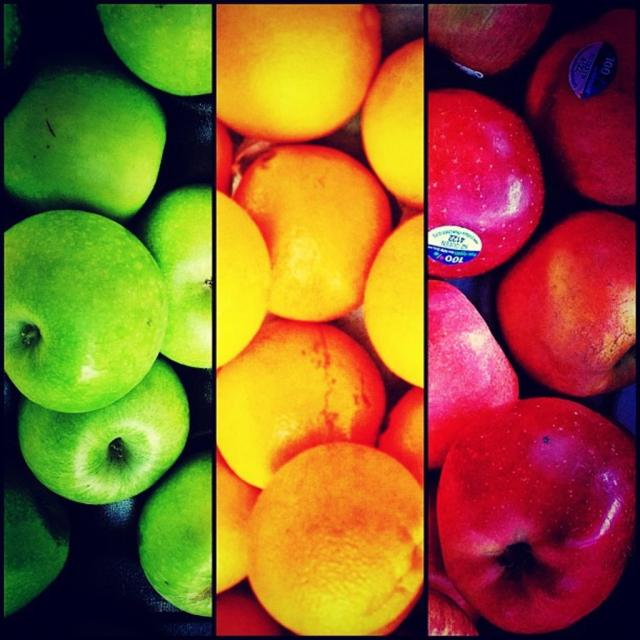Healty Apple: (0, 0, 215, 623), (426, 2, 636, 638)
